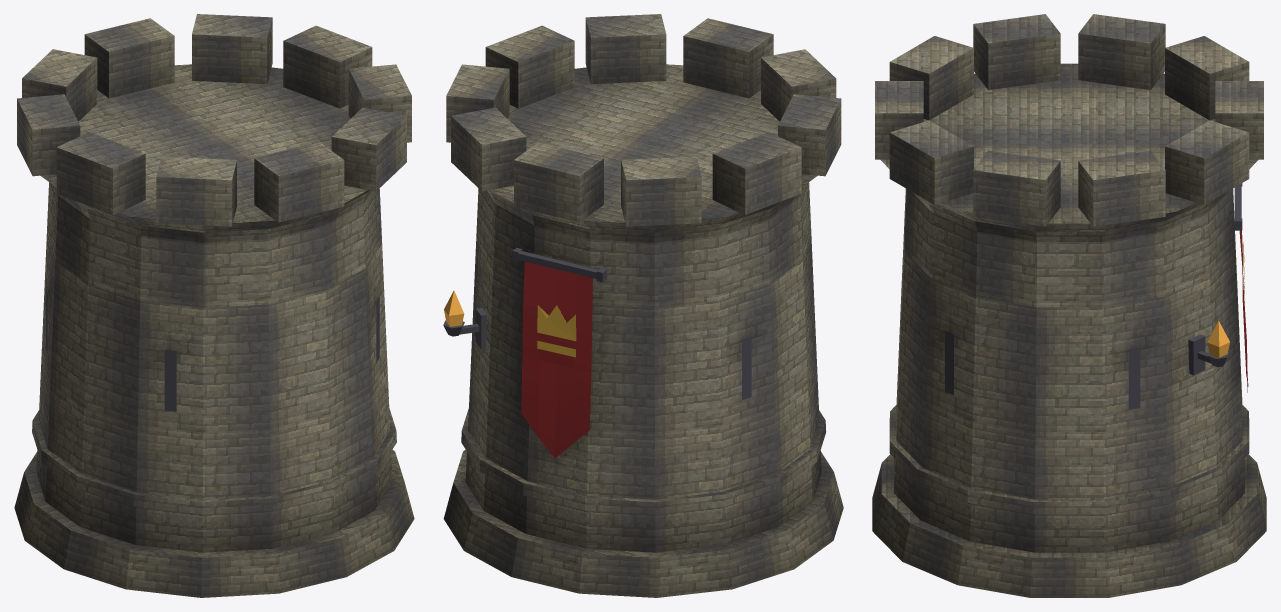
File: guard_tower.glb
The picture shows the model from 3 angles, left to right: view 1: azimuth 30°, elevation 25°; view 2: azimuth 150°, elevation 25°; view 3: azimuth 270°, elevation 25°; orthographic projection.
Visible parts, largest first — view 1: guard_tower; view 2: guard_tower; view 3: guard_tower.
Boxes of the visible parts, box(x1,y1,x2,y2) form: guard_tower: box(14, 14, 414, 597); guard_tower: box(443, 14, 843, 597); guard_tower: box(872, 14, 1266, 597).
Size of the model in its own units: 4.45 by 5.2 by 4.45.
Materials: 5 (1 with a texture image).
